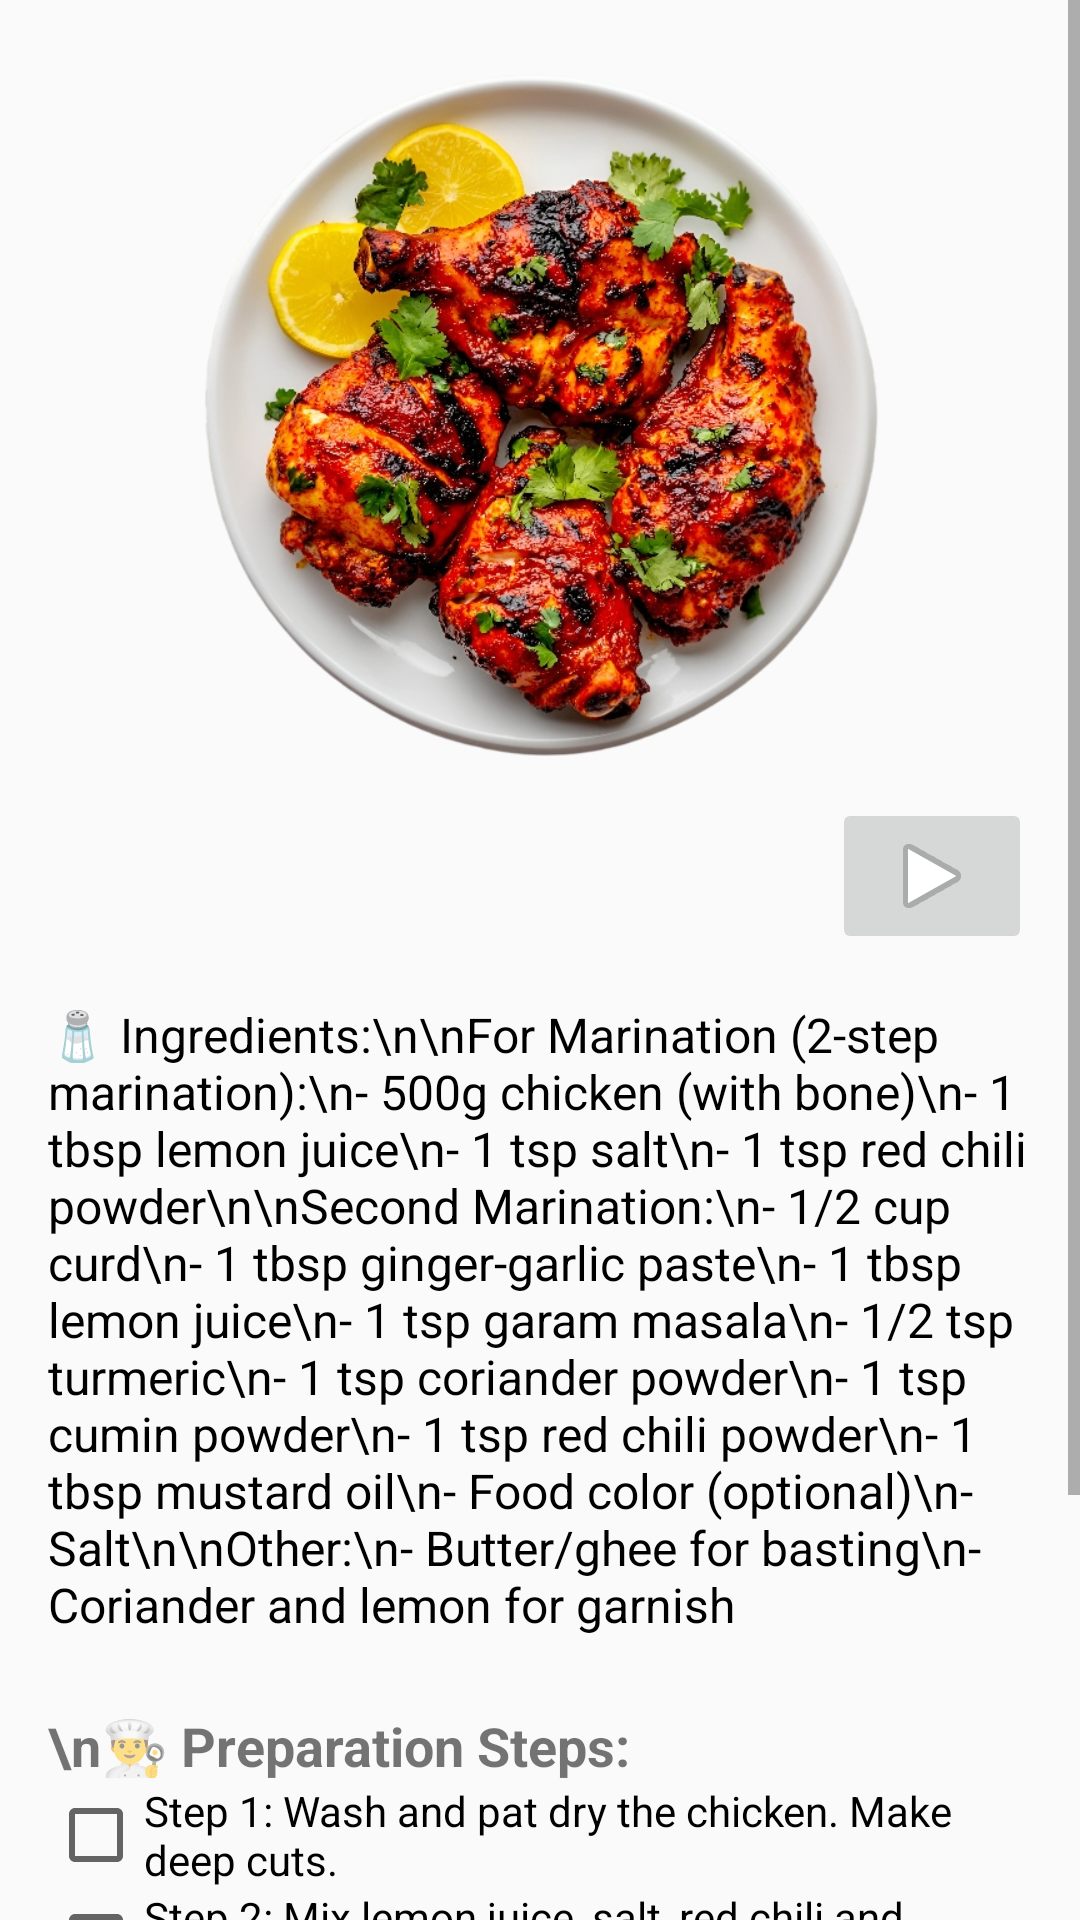

Icons on this 1080 × 1920 Android screen, each with the point to tap as (x=x, y=y):
play: (x=932, y=876)
